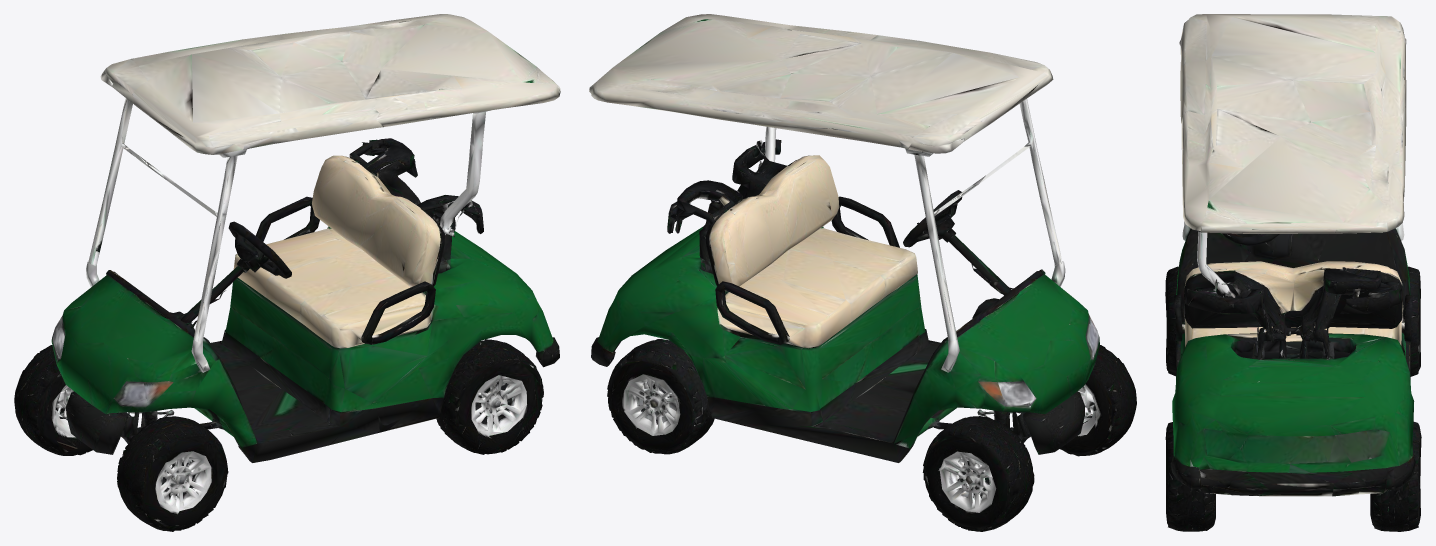
File: cart.glb
3 views of the same model, side by side, from view 1: azimuth 30°, elevation 25°; view 2: azimuth 150°, elevation 25°; view 3: azimuth 270°, elevation 25° (orthographic).
Parts seen in each view (by area): view 1: LO; view 2: LO; view 3: LO.
Part boxes in pixels (x1,y1,x2,y2): LO: (14,14,560,531); LO: (589,14,1136,531); LO: (1165,14,1421,531).
Bounding box in the file's own units: 1.9 × 1.54 × 0.9507.
1 material, 1 textured.
